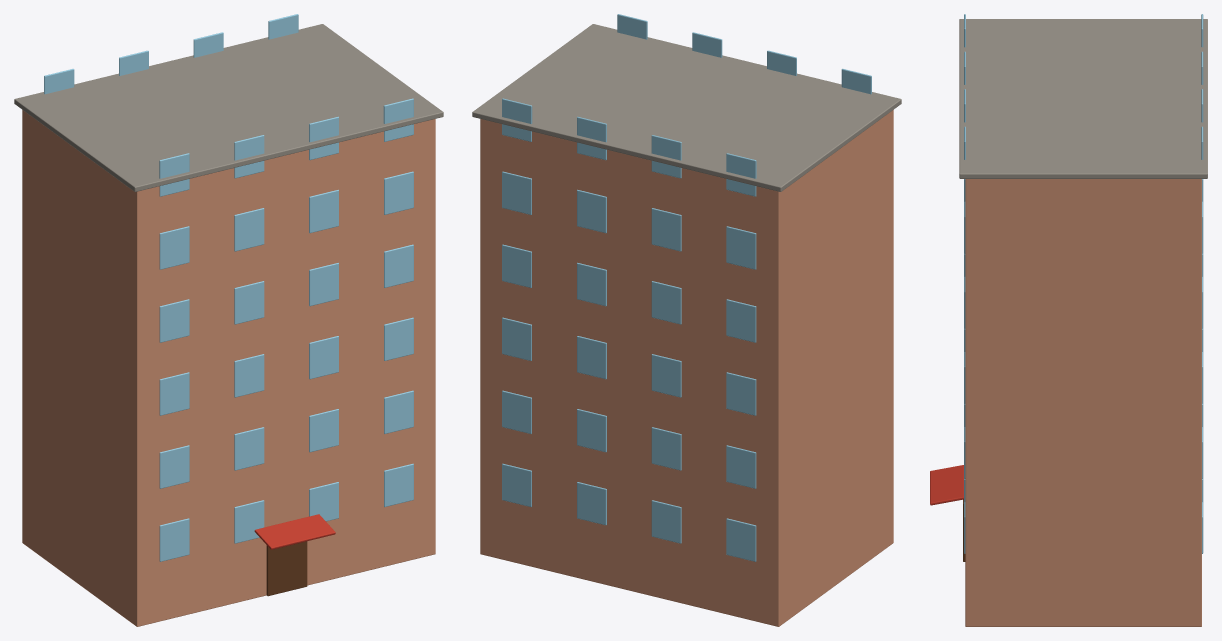
File: apartment.glb
3 views of the same model, side by side, from view 1: azimuth 30°, elevation 25°; view 2: azimuth 150°, elevation 25°; view 3: azimuth 270°, elevation 25° (orthographic). The views are drawn at different scales.
Visible parts, largest first — view 1: building; view 2: building; view 3: building.
Part boxes in pixels (x1,y1,x2,y2): building: (14,14,443,626); building: (472,14,901,626); building: (930,14,1207,626).
Size of the model in its own units: 12.4 by 17.7 by 9.39.
